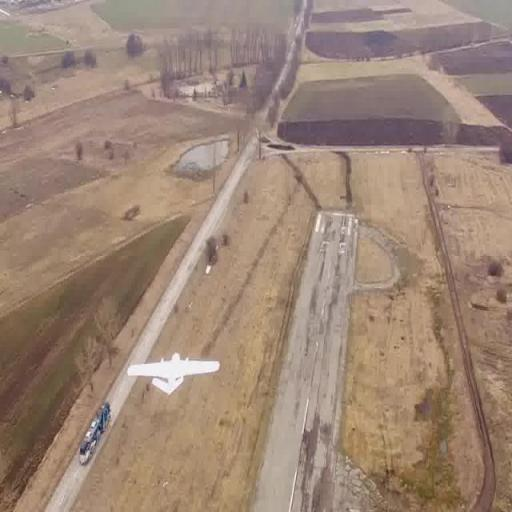uav: (126, 348, 226, 400)
